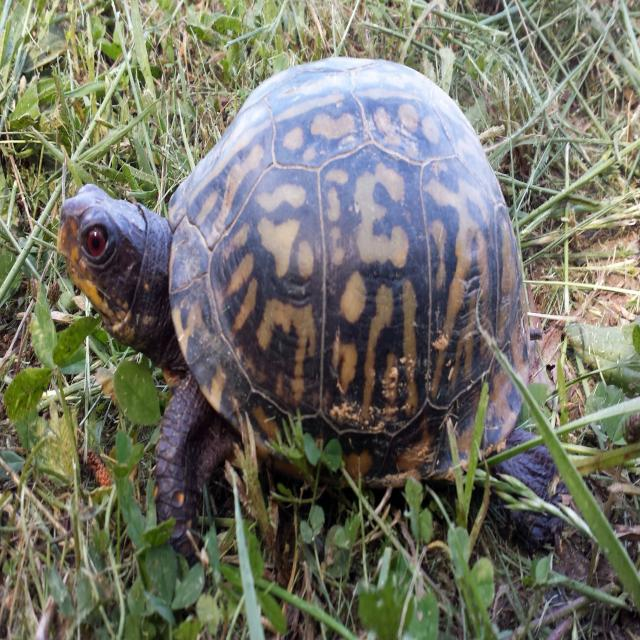turtle: (58, 58, 533, 559), (498, 446, 556, 499), (513, 512, 561, 544)
